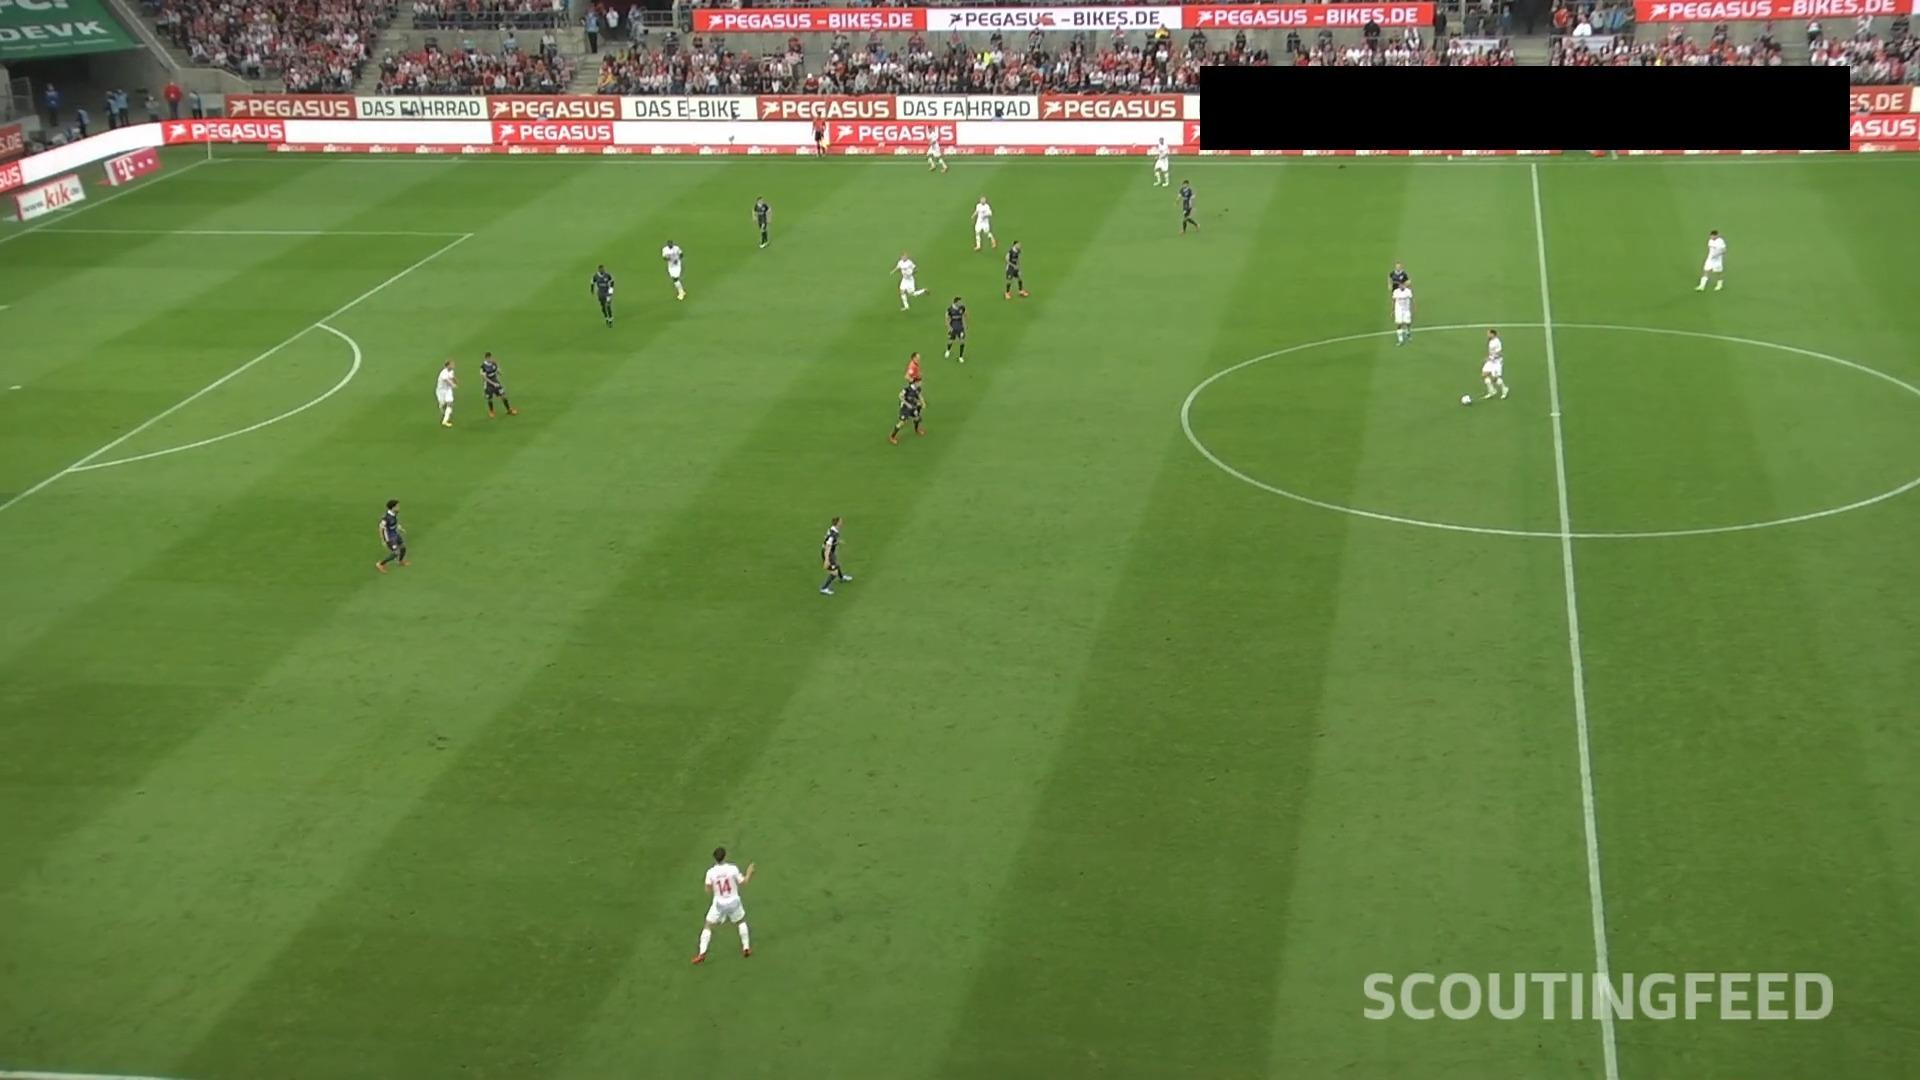ball: (1460, 393, 1473, 407)
